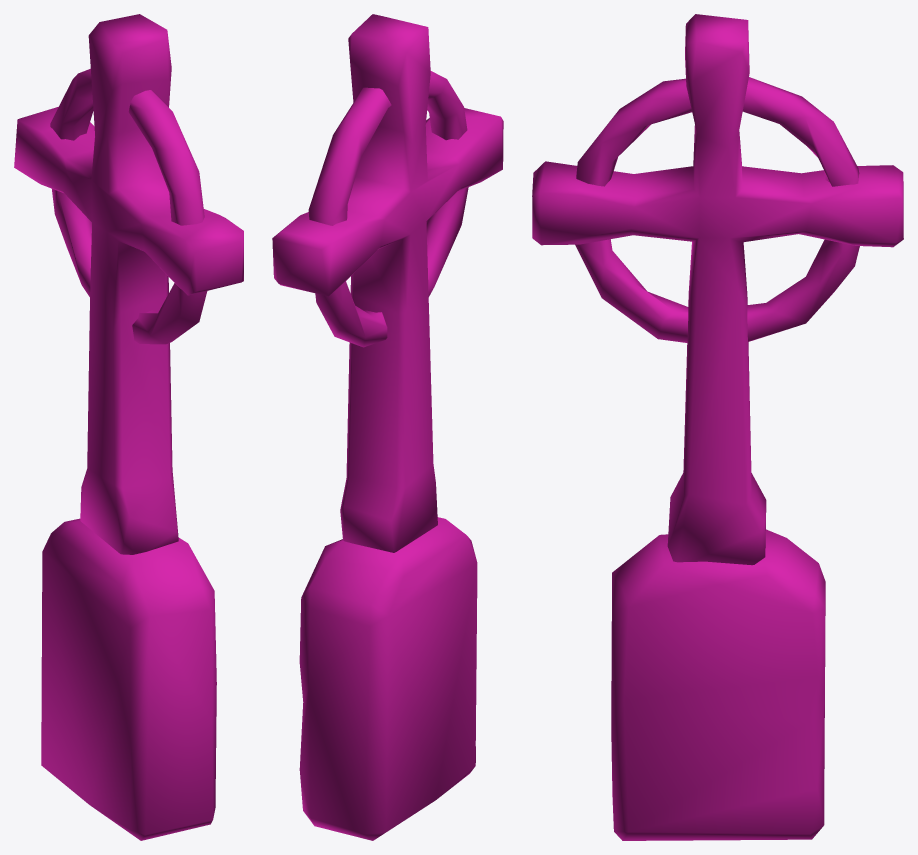
File: Tombstones.004.fbx
The picture shows the model from 3 angles, left to right: view 1: azimuth 30°, elevation 25°; view 2: azimuth 150°, elevation 25°; view 3: azimuth 270°, elevation 25°; orthographic projection. The views are drawn at different scales.
Visible parts, largest first — view 1: Tombstones.004; view 2: Tombstones.004; view 3: Tombstones.004.
Boxes of the visible parts, bbox=[...] form: Tombstones.004: bbox=[14, 14, 243, 840]; Tombstones.004: bbox=[272, 14, 503, 840]; Tombstones.004: bbox=[532, 14, 903, 840].
Size of the model in its own units: 64.03 by 548 by 232.
